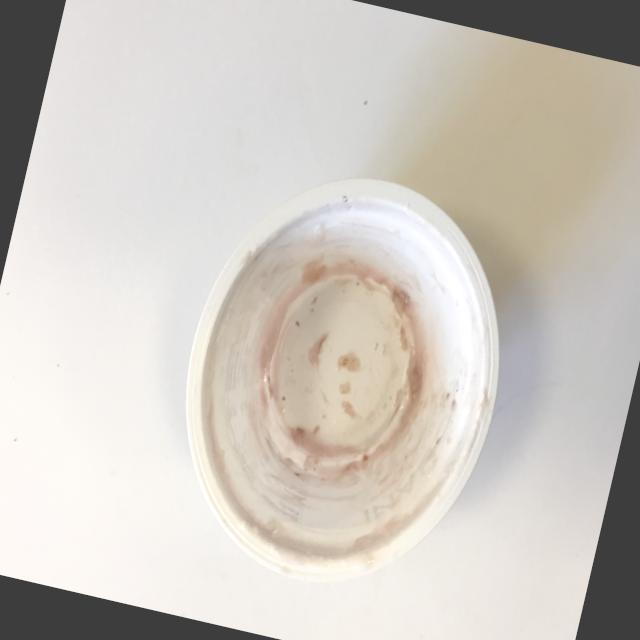Plastic: (84, 100, 600, 640)
